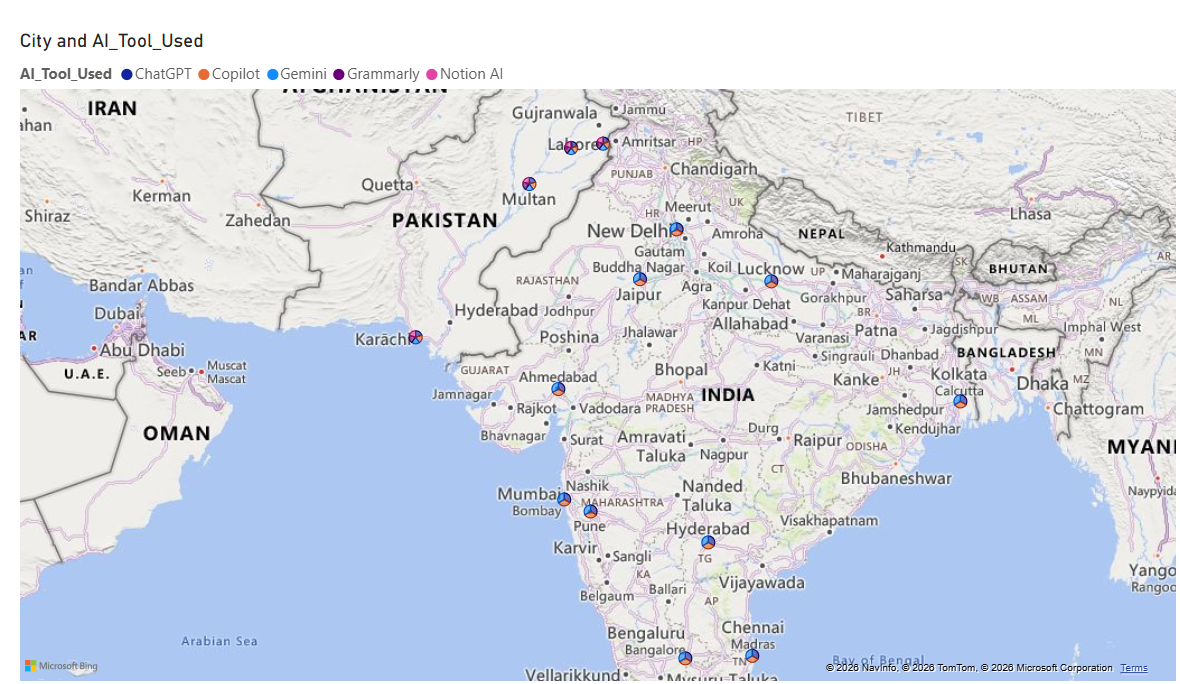

The dashboard page shown, as its layout file describes it:
{"tool":"powerbi","page":{"name":"Page 2","canvas":[1280,720],"ordinal":1},"visuals":[{"type":"map","fields":{"Category":["AI_Student_Life_india.City"],"Series":["AI_Student_Life_india.AI_Tool_Used"]},"box":[10,0,1042.7,587.3],"z":0}]}

Visuals, with their boxes in screenshot pixels (x1, y1, x2, y2), scaled from the page's 1280x720 canvas onto the 1180x684 screenshot:
map - AI_Student_Life_india.City x AI_Student_Life_india.AI_Tool_Used: rect(9, 0, 970, 558)
